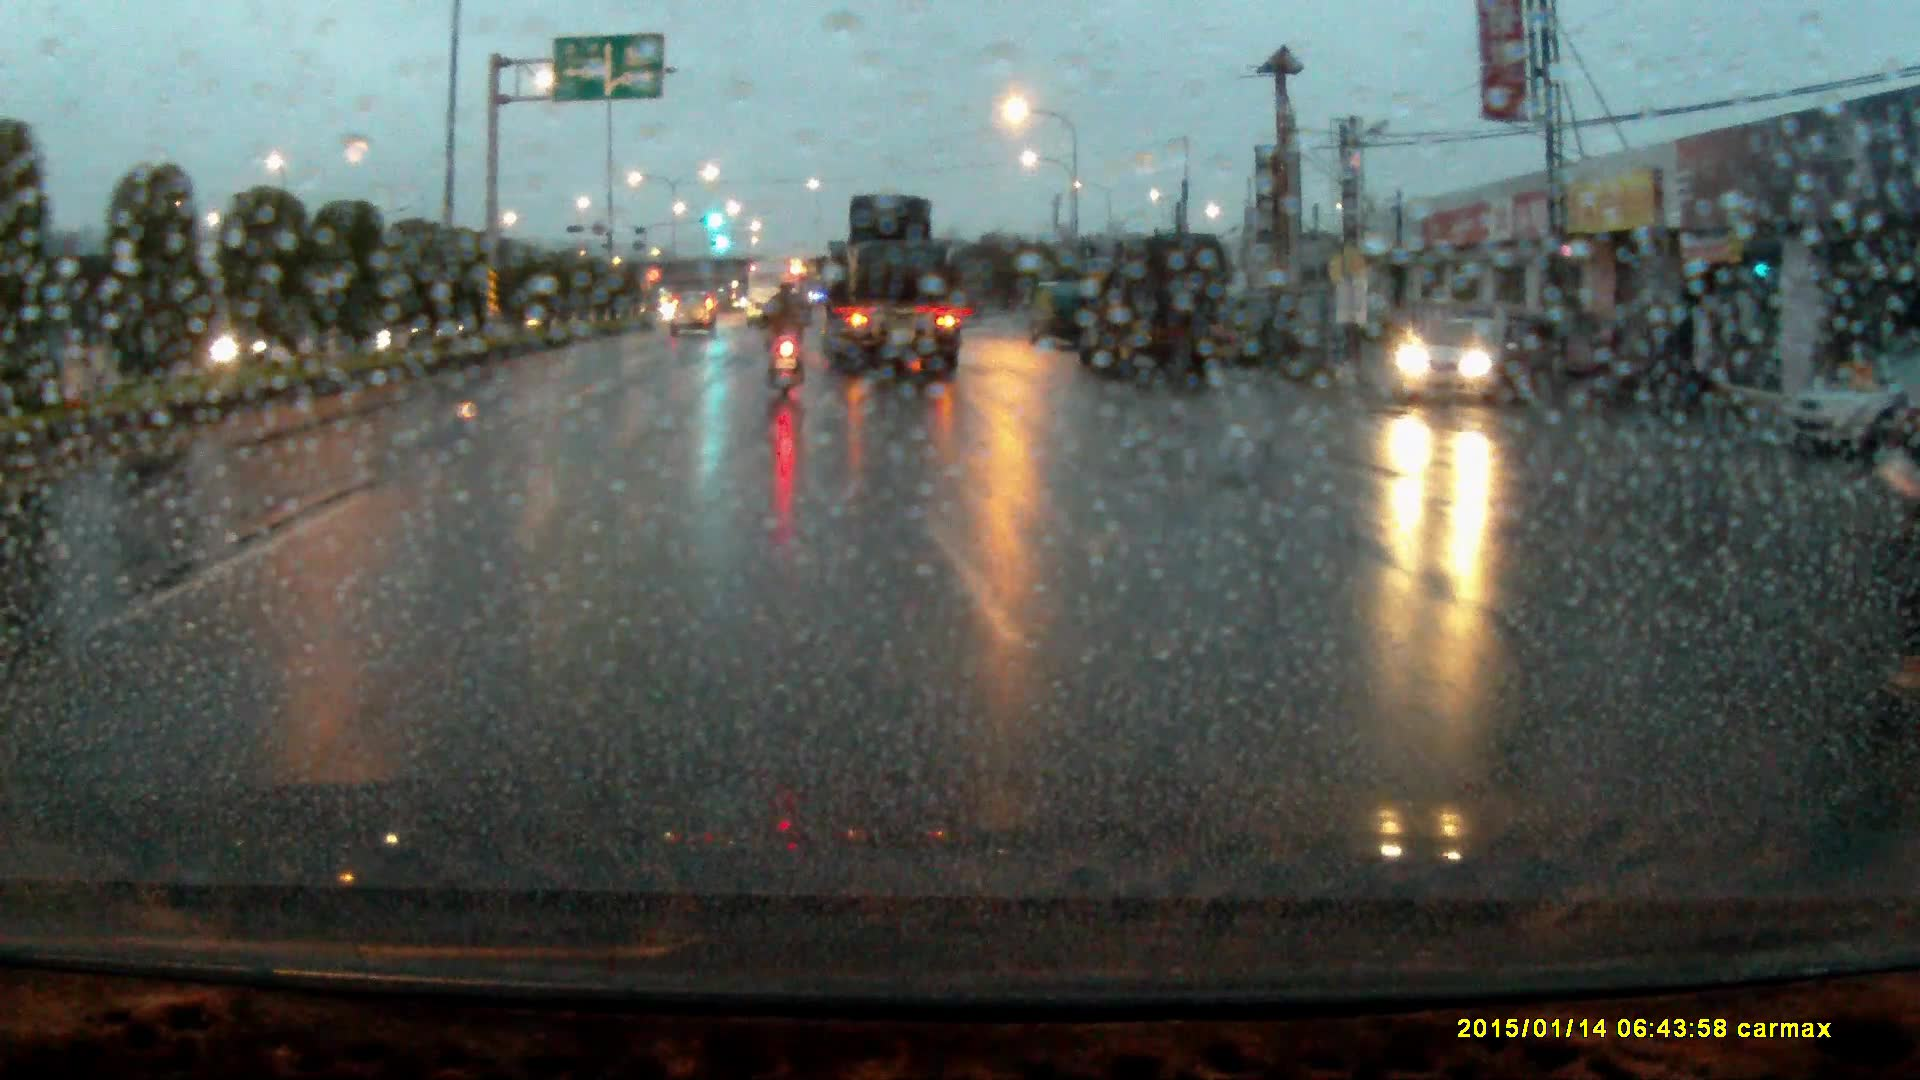rider: (762, 272, 820, 399)
vehicle: (824, 193, 962, 377), (1075, 227, 1229, 382), (1792, 349, 1920, 464), (1405, 318, 1546, 414), (1027, 283, 1088, 347), (746, 262, 802, 322), (670, 291, 719, 338)
